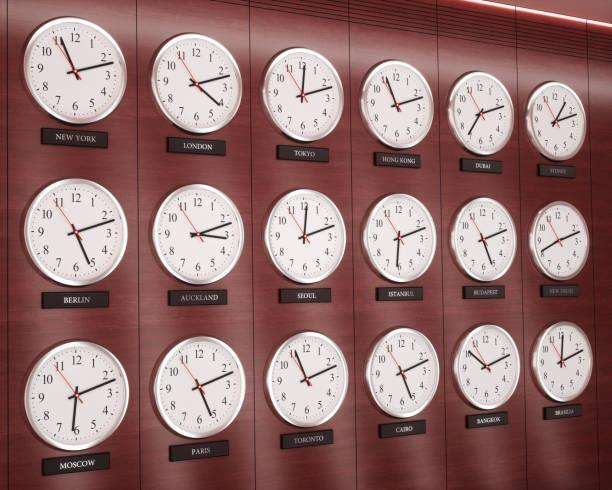clock: (6, 332, 143, 455), (21, 0, 136, 127), (22, 169, 131, 290), (150, 323, 256, 441), (136, 180, 246, 285), (149, 28, 253, 137), (265, 318, 349, 439), (260, 43, 345, 153), (259, 186, 350, 286), (352, 58, 446, 153), (447, 315, 530, 416), (519, 73, 600, 166), (364, 328, 440, 425), (364, 195, 445, 285), (446, 198, 524, 286), (444, 66, 517, 158), (532, 320, 602, 406), (528, 202, 593, 284)
